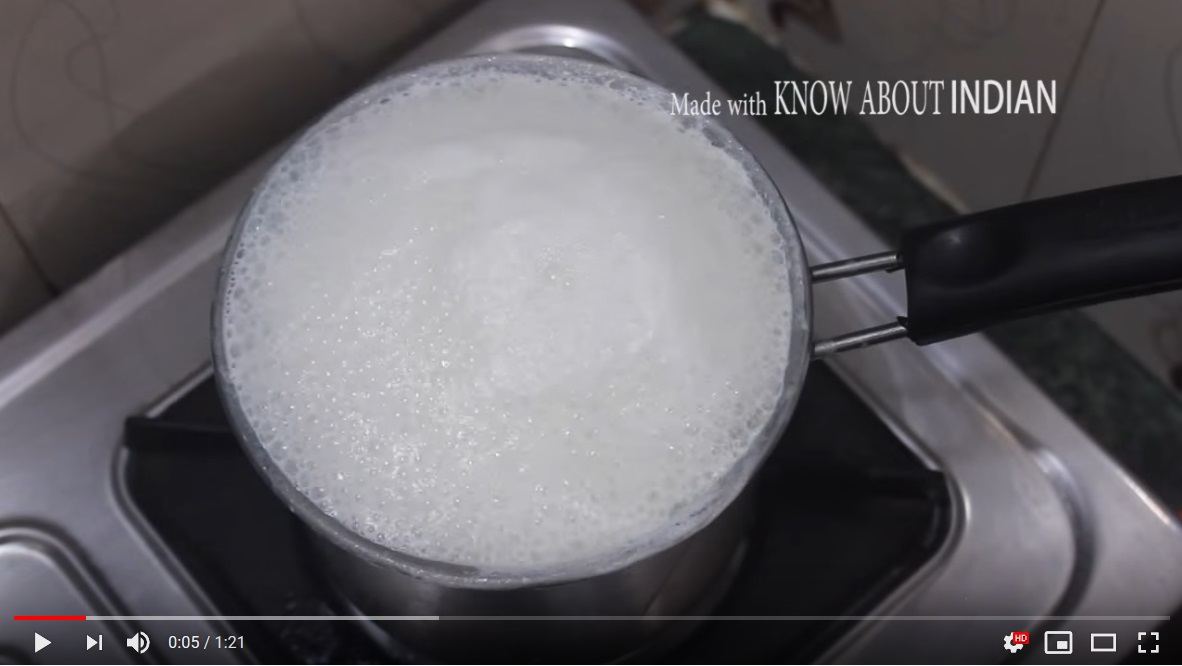Boiled: (208, 56, 823, 587)
